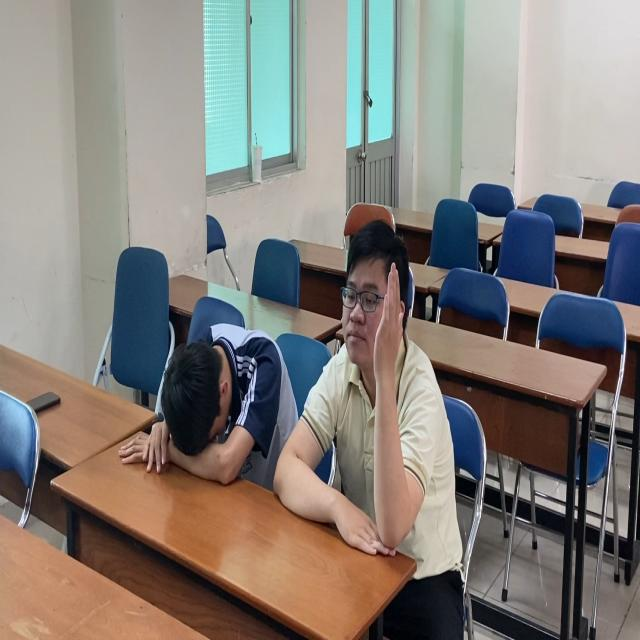raise_hand: (301, 227, 461, 562)
sleep: (118, 311, 306, 506)
